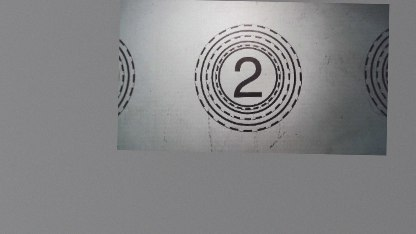2r: (190, 22, 304, 135)
